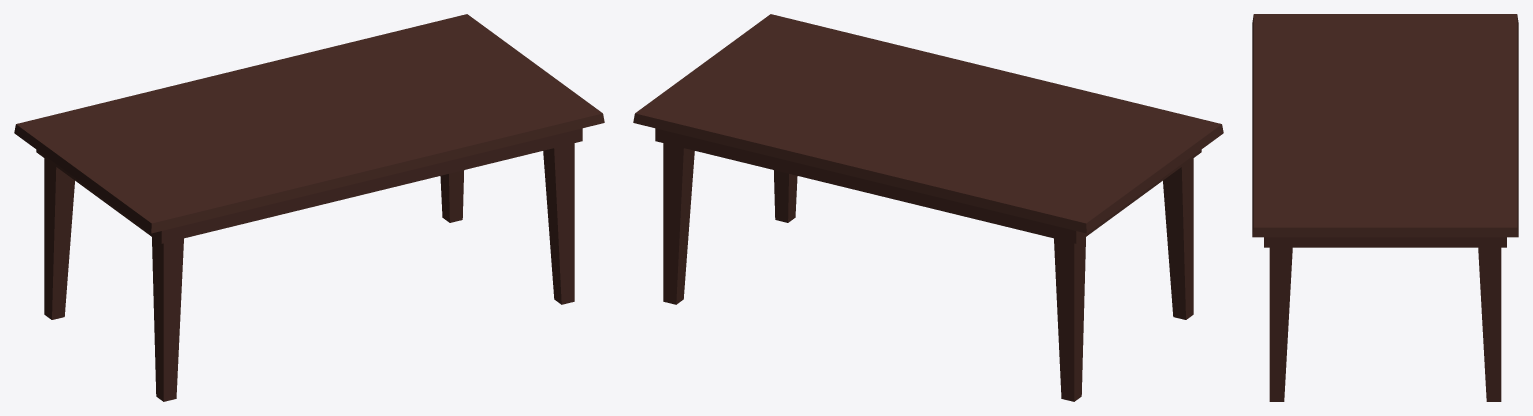
Rendered from Table.glb.
The picture shows the model from 3 angles, left to right: view 1: azimuth 30°, elevation 25°; view 2: azimuth 150°, elevation 25°; view 3: azimuth 270°, elevation 25°; orthographic projection. The views are drawn at different scales.
Visible parts, largest first — view 1: Table; view 2: Table; view 3: Table.
Boxes of the visible parts, left/top/right/bottom form: Table: left=14, top=14, right=604, bottom=401; Table: left=633, top=14, right=1223, bottom=401; Table: left=1252, top=14, right=1518, bottom=401.
Bounding box in the file's own units: 2.38 × 0.9491 × 1.24.
1 material, 1 textured.
